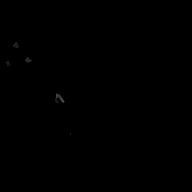v: (1, 38, 31, 67)
